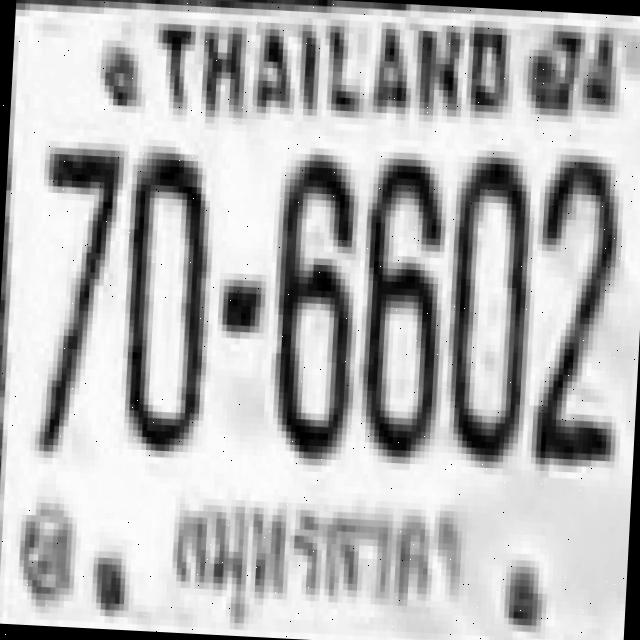0: (116, 146, 215, 447), (438, 152, 533, 460)
2: (528, 150, 622, 426)
6: (266, 146, 362, 454), (356, 151, 444, 452)
7: (30, 140, 120, 442), (34, 140, 120, 364), (36, 140, 120, 338)
SamutSakhon: (155, 475, 482, 637)
